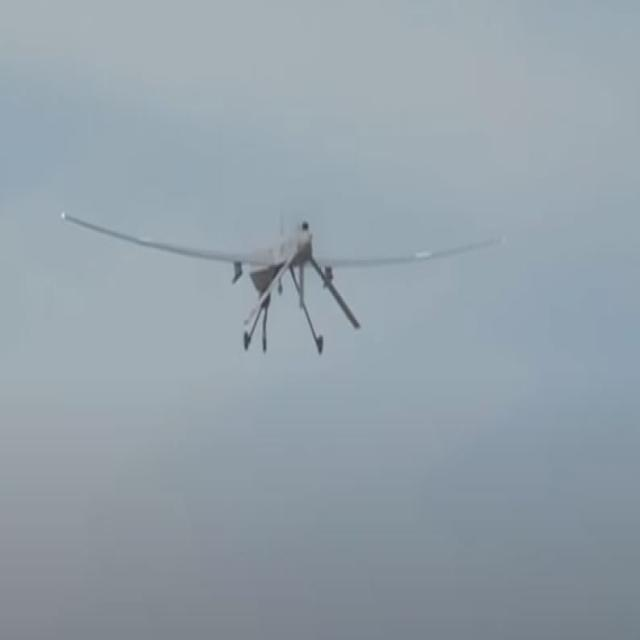iha: (57, 204, 503, 357)
